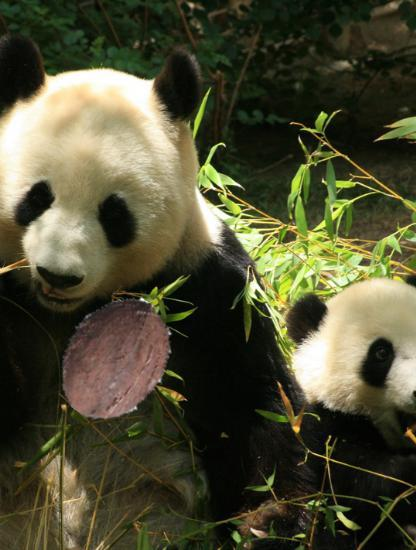Cocos: (51, 294, 182, 425)
